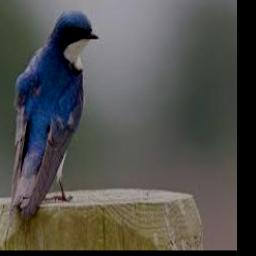Swallow: (11, 11, 97, 219)
